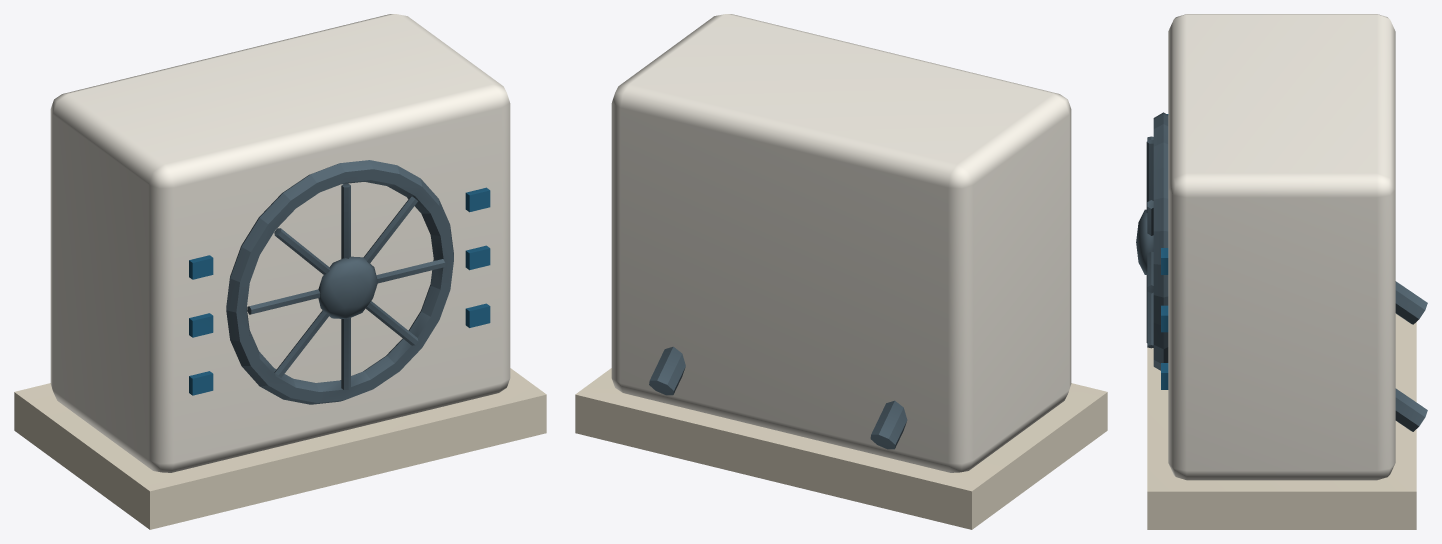
The model's file is heat-pump.glb.
3 renders of one model, left to right at view 1: azimuth 30°, elevation 25°; view 2: azimuth 150°, elevation 25°; view 3: azimuth 270°, elevation 25°, orthographic.
Parts seen in each view (by area): view 1: heat pump case, heat pump plinth, fan surround, side inlet; view 2: heat pump case, heat pump plinth, fan surround; view 3: heat pump case, heat pump plinth, fan surround, side inlet.
Boxes of the visible parts, <box> form: heat pump case: <box>50,14,510,472</box>; heat pump plinth: <box>14,368,546,529</box>; fan surround: <box>226,160,453,404</box>; side inlet: <box>189,187,490,395</box>; heat pump case: <box>611,14,1071,472</box>; heat pump plinth: <box>575,368,1107,529</box>; fan surround: <box>649,346,907,449</box>; heat pump case: <box>1168,14,1395,480</box>; heat pump plinth: <box>1147,313,1416,529</box>; fan surround: <box>1136,112,1427,431</box>; side inlet: <box>1161,114,1168,389</box>.
Bounding box in the file's own units: 0.86 × 0.71 × 0.5522.
